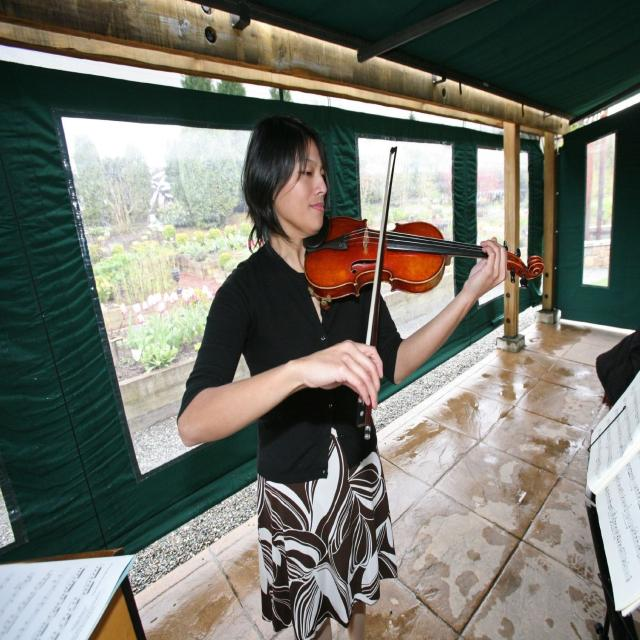violin: (304, 214, 545, 307)
